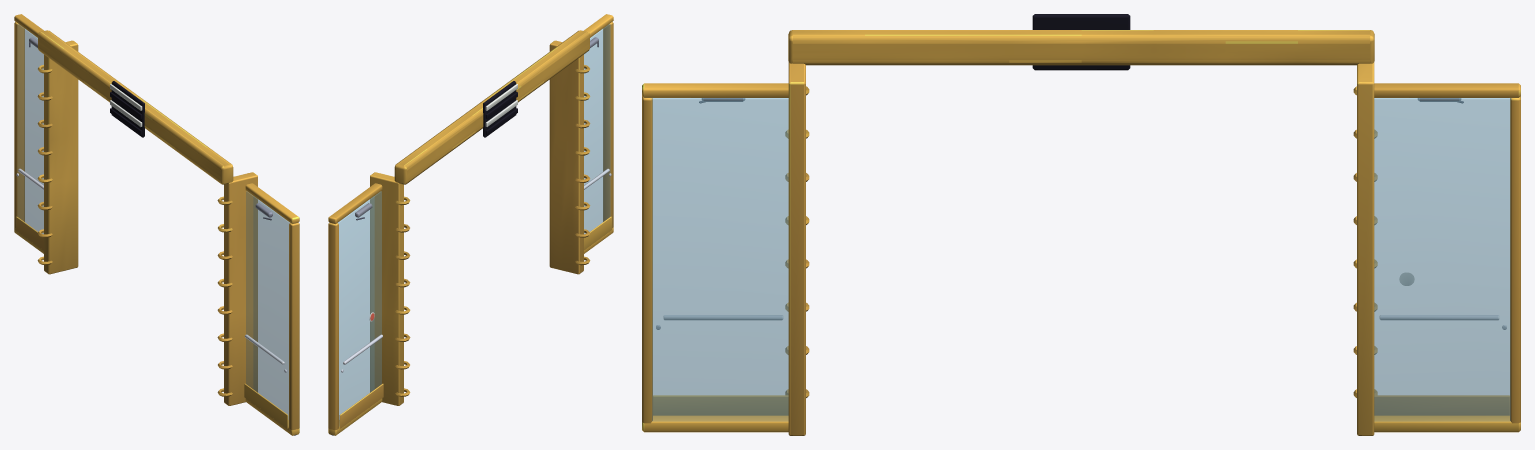
The model's file is SM_Studio_EntranceDoors.fbx.
The picture shows the model from 3 angles, left to right: view 1: azimuth 30°, elevation 25°; view 2: azimuth 150°, elevation 25°; view 3: azimuth 270°, elevation 25°; orthographic projection. The views are drawn at different scales.
Visible parts, largest first — view 1: SM_Studio_EntranceDoors; view 2: SM_Studio_EntranceDoors; view 3: SM_Studio_EntranceDoors.
Boxes of the visible parts, <box> form: SM_Studio_EntranceDoors: <box>14,14,299,435</box>; SM_Studio_EntranceDoors: <box>328,14,613,435</box>; SM_Studio_EntranceDoors: <box>642,14,1520,435</box>.
Size of the model in its own units: 68.63 by 400 by 810.
